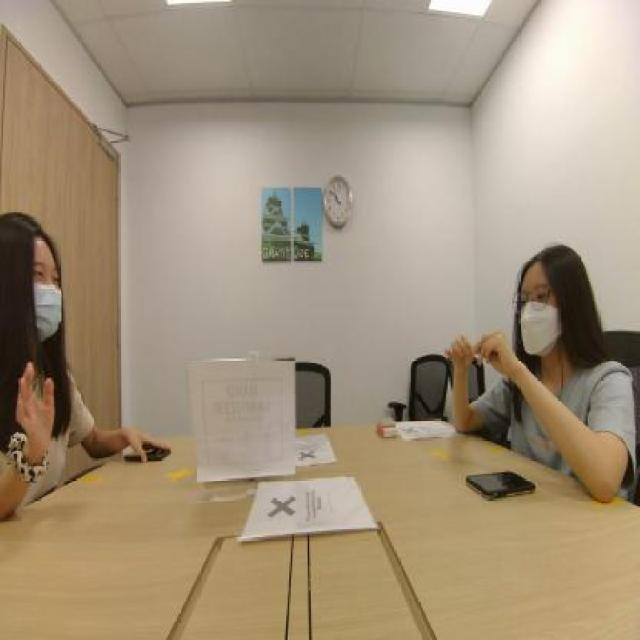Person: (473, 190, 638, 464), (0, 189, 108, 489)
